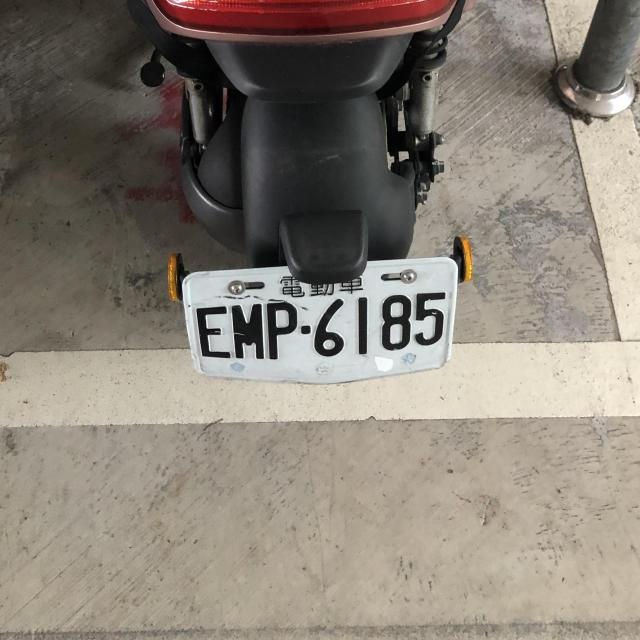W: (176, 250, 466, 393)
